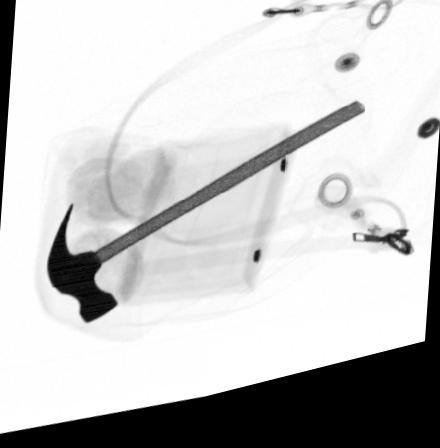Hammer: (46, 116, 367, 326)
